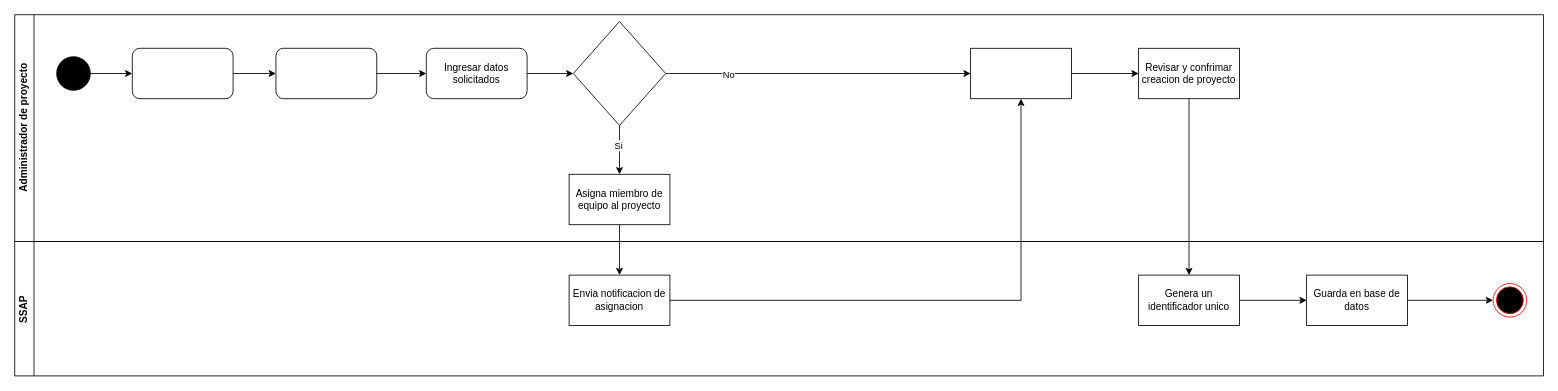
This 1558x391 diagram has some shape labels left out. Here are the shapes that lost their labels. From the top down, the centre of each, then its label:
the point at 182,73: Iniciar sesión en el sistema SSAP
the point at 326,73: Seleccionar la opcion "Crear nuevo Proyecto"
the point at 619,73: ¿Hay miembros del equipo disponibles?
the point at 1020,73: Establece Fechas limites e hitos principales
